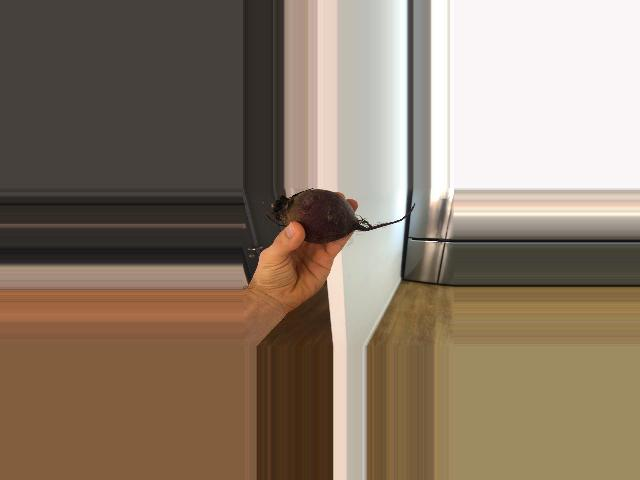beet: (266, 188, 415, 242)
